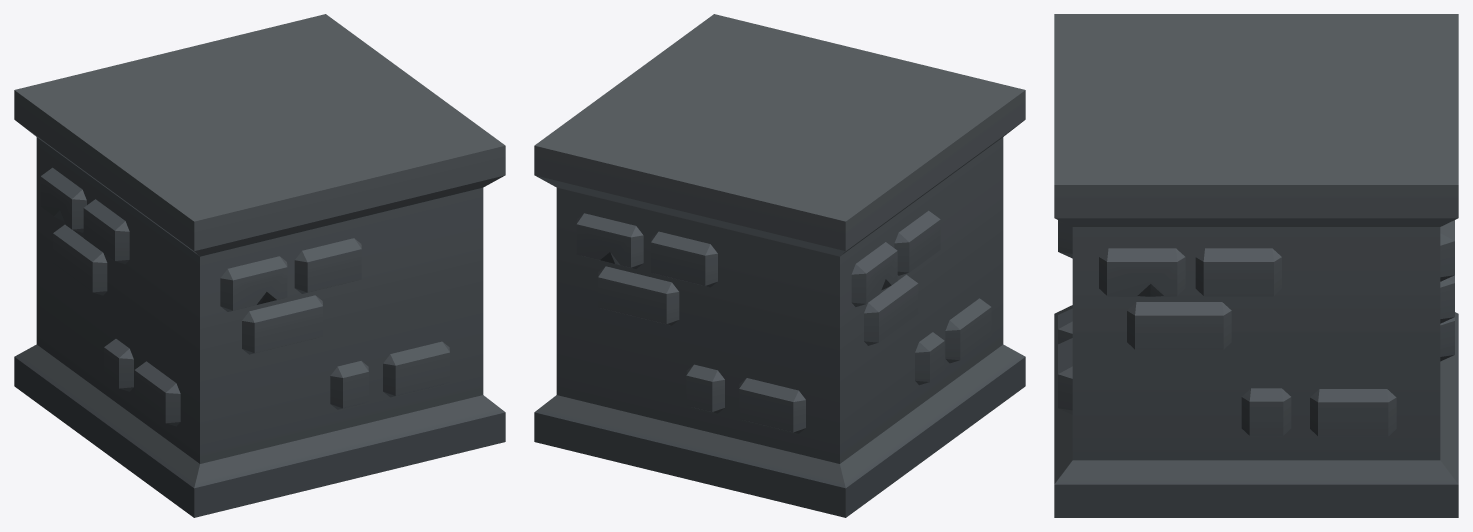
Rendered from kaykit-dungeon-remastered-floor-foundation-allsides-gltf.glb.
3 renders of one model, left to right at view 1: azimuth 30°, elevation 25°; view 2: azimuth 150°, elevation 25°; view 3: azimuth 270°, elevation 25°, orthographic. The views are drawn at different scales.
Visible parts, largest first — view 1: floor_foundation_allsides; view 2: floor_foundation_allsides; view 3: floor_foundation_allsides.
Part boxes in pixels (box(x1,y1,x2,y2)): floor_foundation_allsides: box(14, 14, 505, 517); floor_foundation_allsides: box(534, 14, 1025, 517); floor_foundation_allsides: box(1054, 14, 1458, 517).
Bounding box in the file's own units: 2.2 × 2 × 2.2.
1 material, 1 textured.
